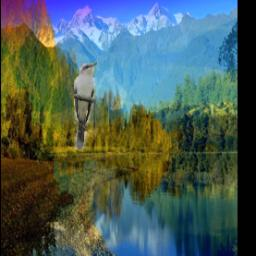Cuckoo: (75, 63, 98, 151)
